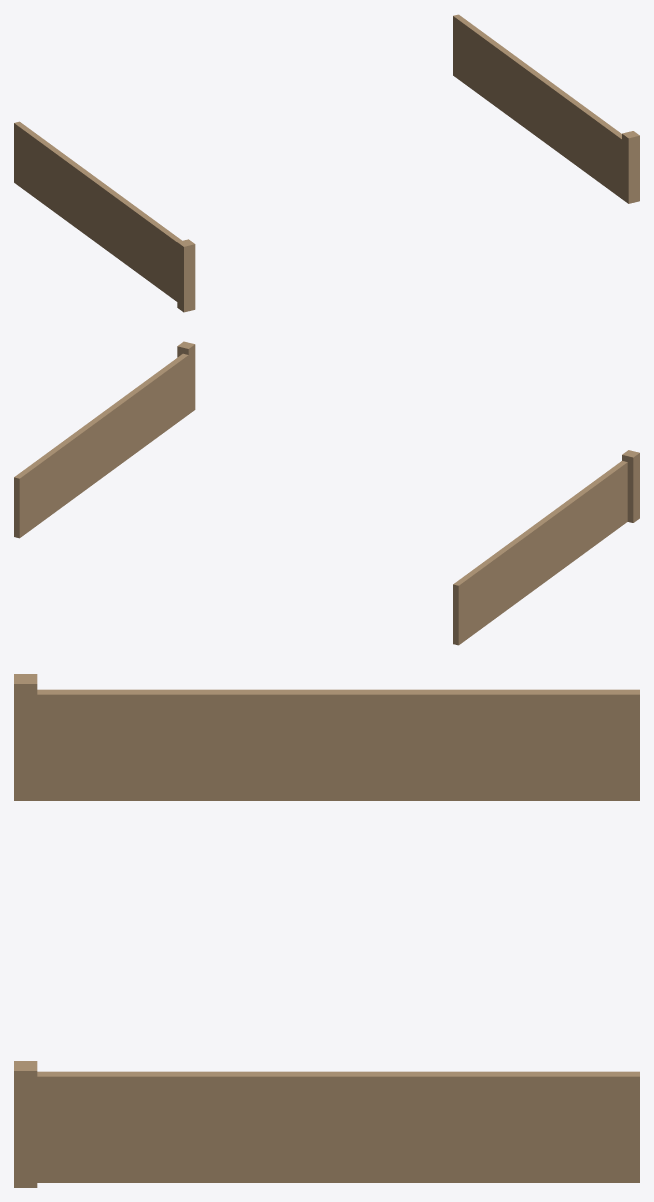
Rendered from SM_Fence_Open.fbx.
The picture shows the model from 3 angles, top to bottom: view 1: azimuth 30°, elevation 25°; view 2: azimuth 150°, elevation 25°; view 3: azimuth 270°, elevation 25°; orthographic projection. The views are drawn at different scales.
Parts seen in each view (by area): view 1: SM_Fence_Open; view 2: SM_Fence_Open; view 3: SM_Fence_Open.
Boxes of the visible parts, <box> form: SM_Fence_Open: <box>14,14,639,312</box>; SM_Fence_Open: <box>14,341,639,645</box>; SM_Fence_Open: <box>14,674,639,1187</box>.
Size of the model in its own units: 864 by 119 by 576.
